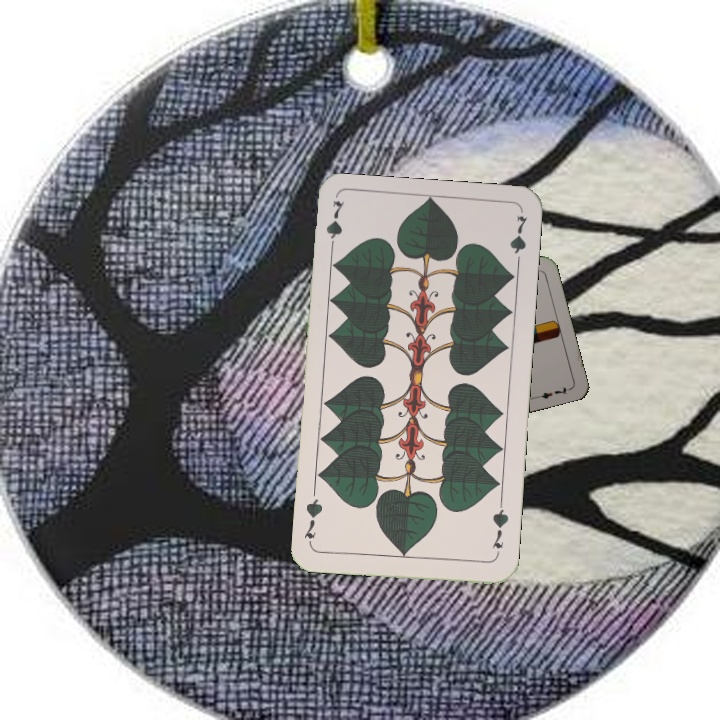G7: (322, 197, 347, 257), (488, 499, 511, 559)
